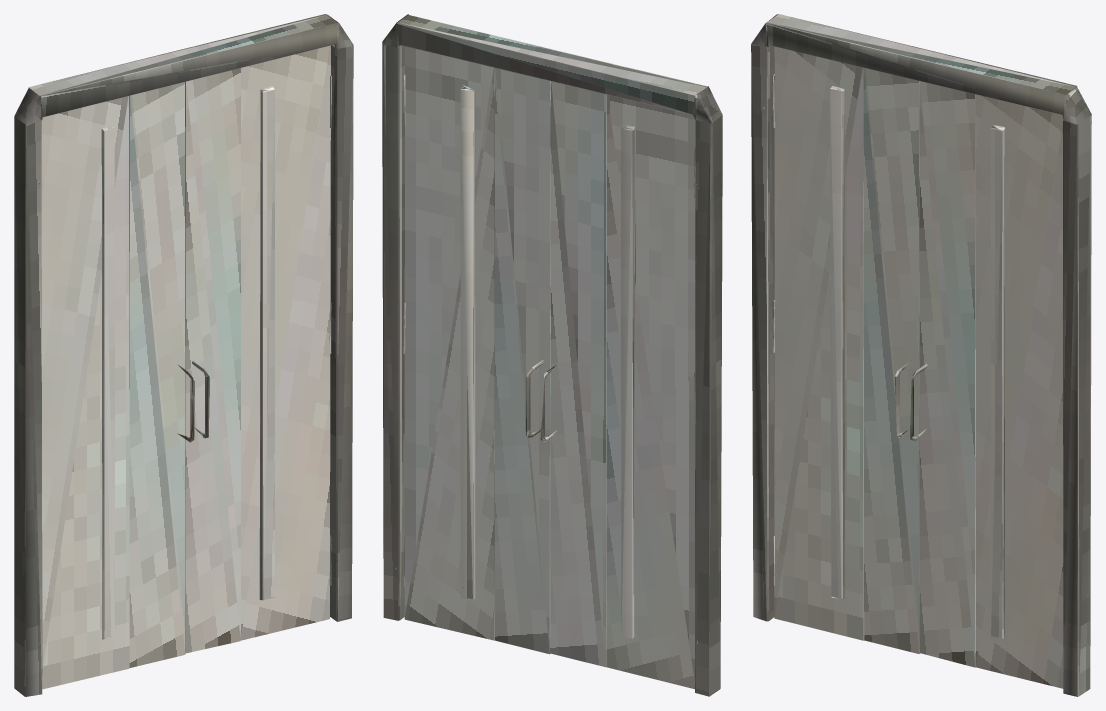
File: sliding-door.lod2.glb
3 renders of one model, left to right at view 1: azimuth 30°, elevation 25°; view 2: azimuth 150°, elevation 25°; view 3: azimuth 330°, elevation 25°, orthographic.
Bounding box in the file's own units: 1.5 × 2.6 × 0.2989.
1 material, 1 textured.
